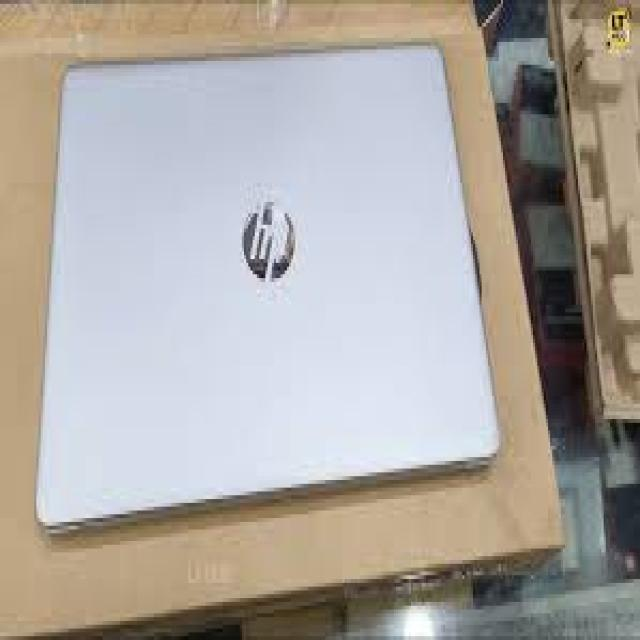laptop: (34, 38, 501, 533)
